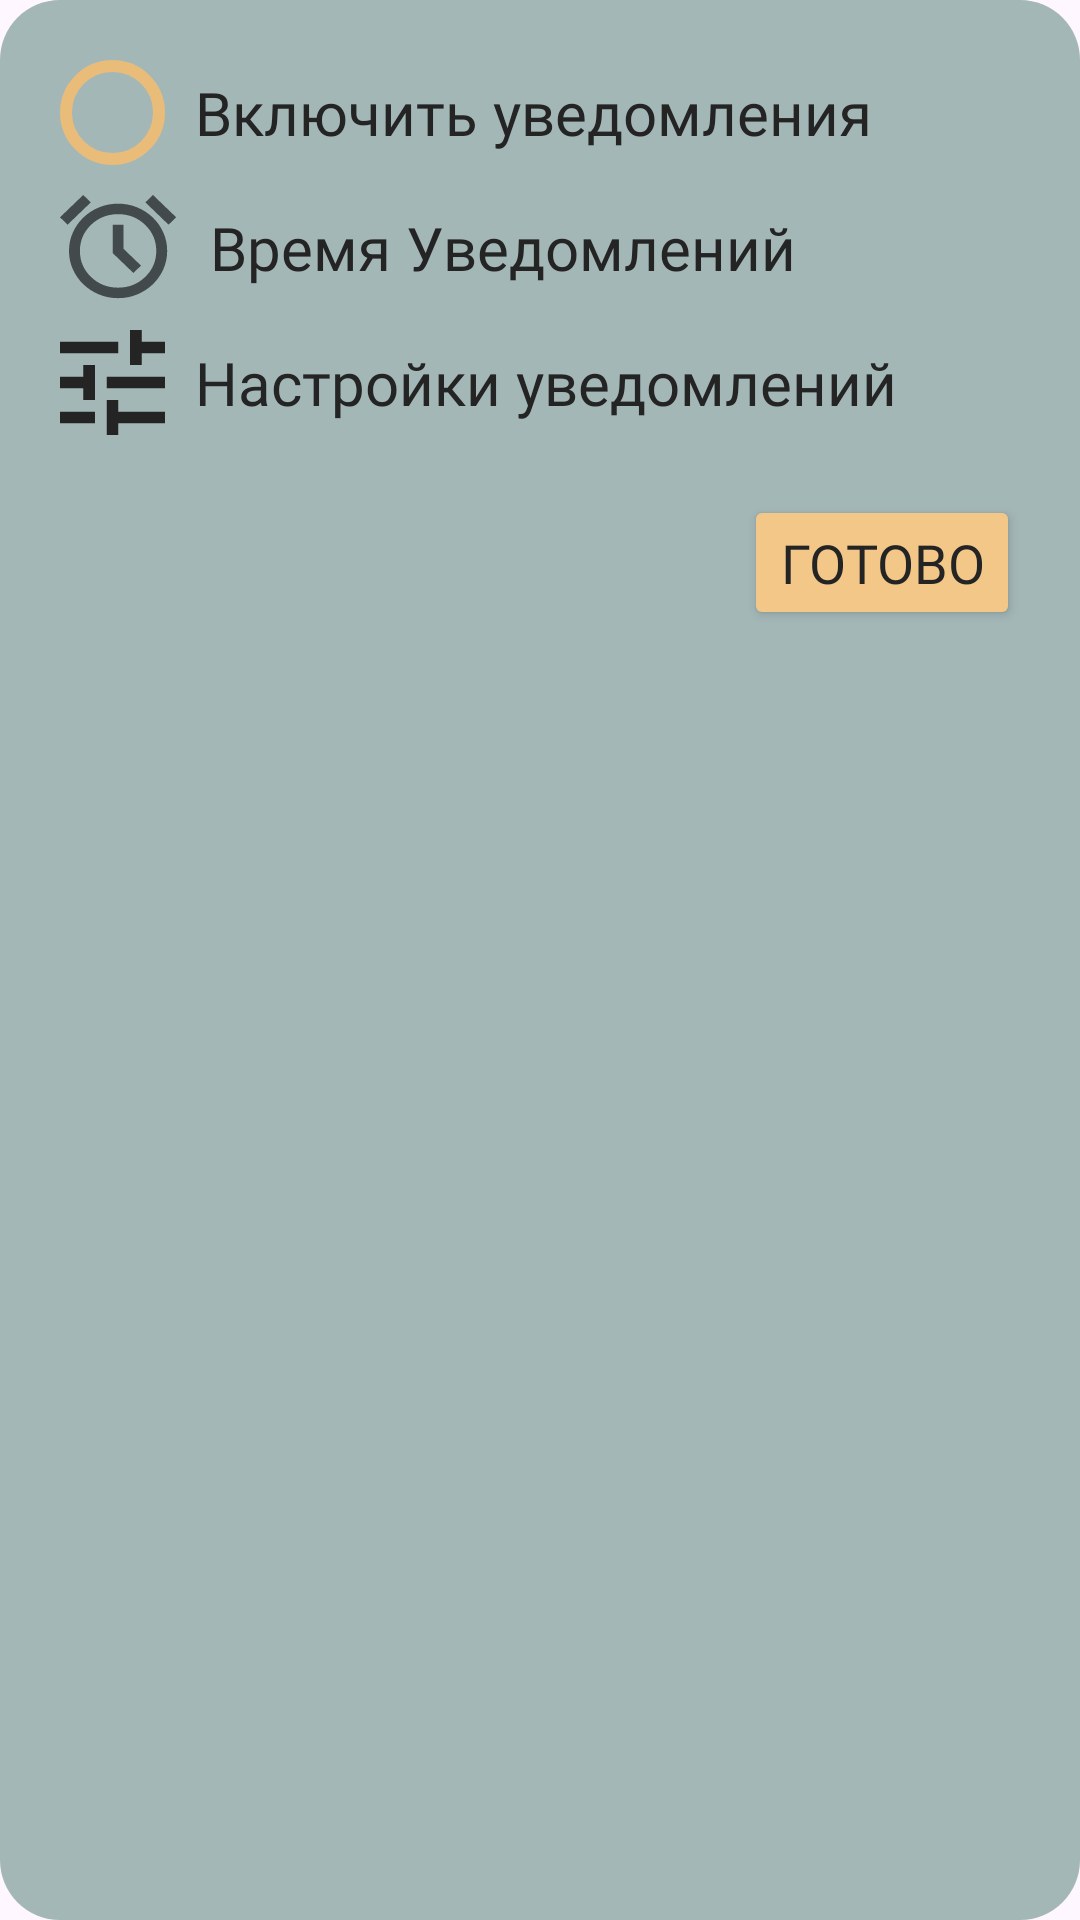

Where to tap for icons on this 1080w x 1920h app screen, as point (x, y):
system notify alarm settings: point (112, 382)
